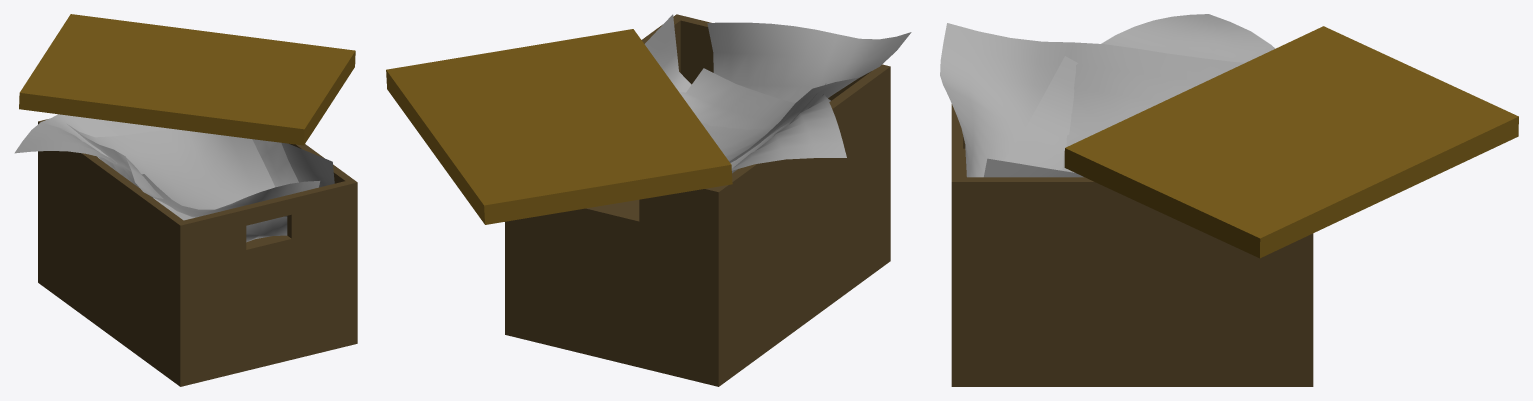
The model's file is BOiteCqrton.fbx.
3 views of the same model, side by side, from view 1: azimuth 30°, elevation 25°; view 2: azimuth 150°, elevation 25°; view 3: azimuth 270°, elevation 25° (orthographic). The views are drawn at different scales.
Parts seen in each view (by area): view 1: polySurface5, polySurface6, polySurface2, polySurface1, polySurface4, polySurface3; view 2: polySurface5, polySurface6, polySurface2, polySurface3, polySurface1, polySurface4; view 3: polySurface5, polySurface6, polySurface2, polySurface1, polySurface3, polySurface4.
Part boxes in pixels (<box>): polySurface5: <box>38,119,357,386</box>; polySurface6: <box>19,14,355,145</box>; polySurface2: <box>67,124,320,217</box>; polySurface1: <box>14,114,265,220</box>; polySurface4: <box>246,142,334,242</box>; polySurface3: <box>141,141,298,204</box>; polySurface5: <box>505,14,890,386</box>; polySurface6: <box>386,29,732,224</box>; polySurface2: <box>701,22,911,162</box>; polySurface3: <box>679,68,825,168</box>; polySurface1: <box>731,94,846,173</box>; polySurface4: <box>644,14,691,92</box>; polySurface5: <box>951,104,1313,386</box>; polySurface6: <box>1064,26,1518,258</box>; polySurface2: <box>940,23,1244,177</box>; polySurface1: <box>1101,14,1275,62</box>; polySurface3: <box>1004,56,1078,170</box>; polySurface4: <box>984,158,1083,177</box>.
Bounding box in the file's own units: 46.93 × 23.87 × 51.22.
